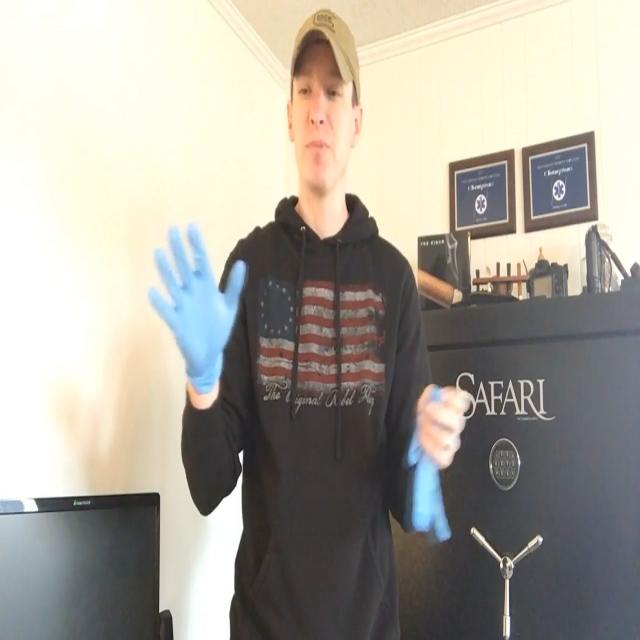Gloves: (145, 203, 253, 402)
